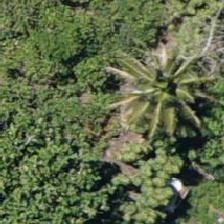coconut_tree: (115, 43, 205, 133)
